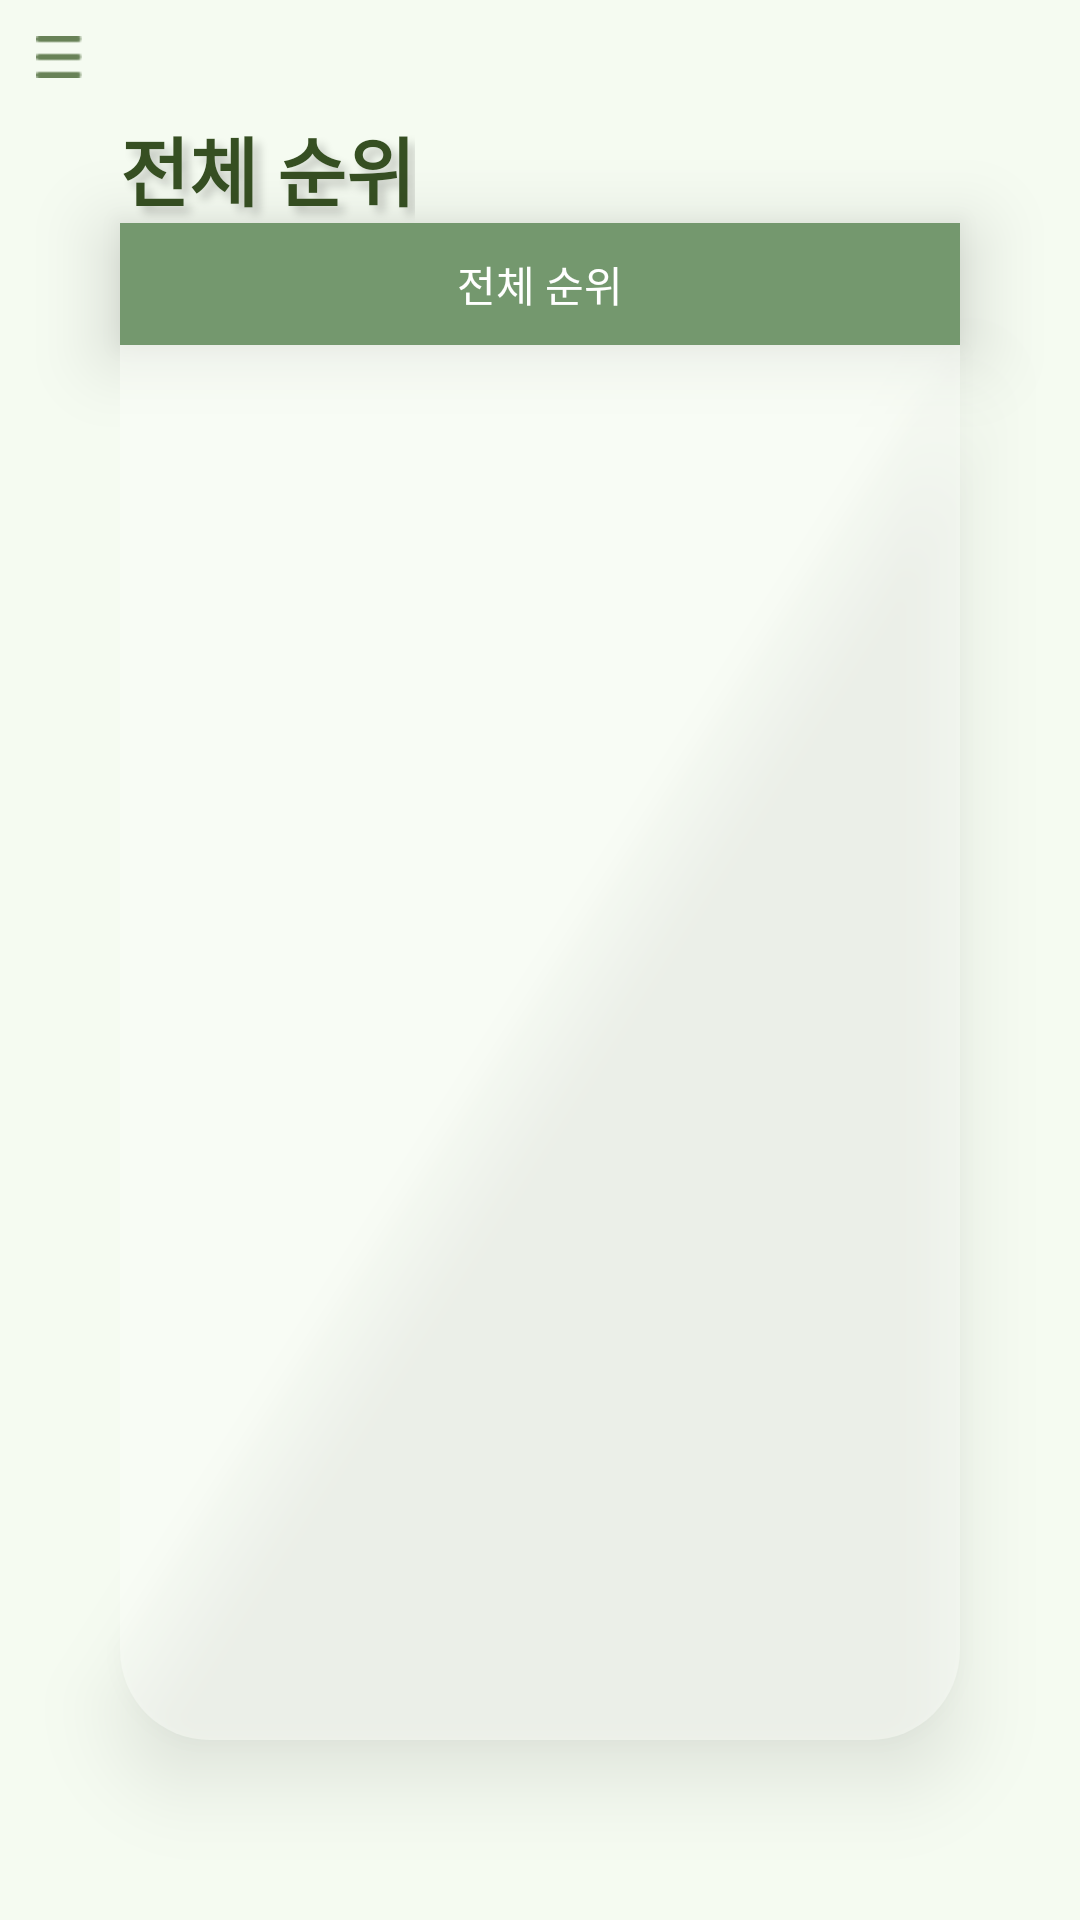

Icon bounding boxes for this 1080 x 1920 phone screenshot, format (x1=x1, y1=y1, x2=x2, y2=y2):
list: (x1=36, y1=36, x2=82, y2=78)
